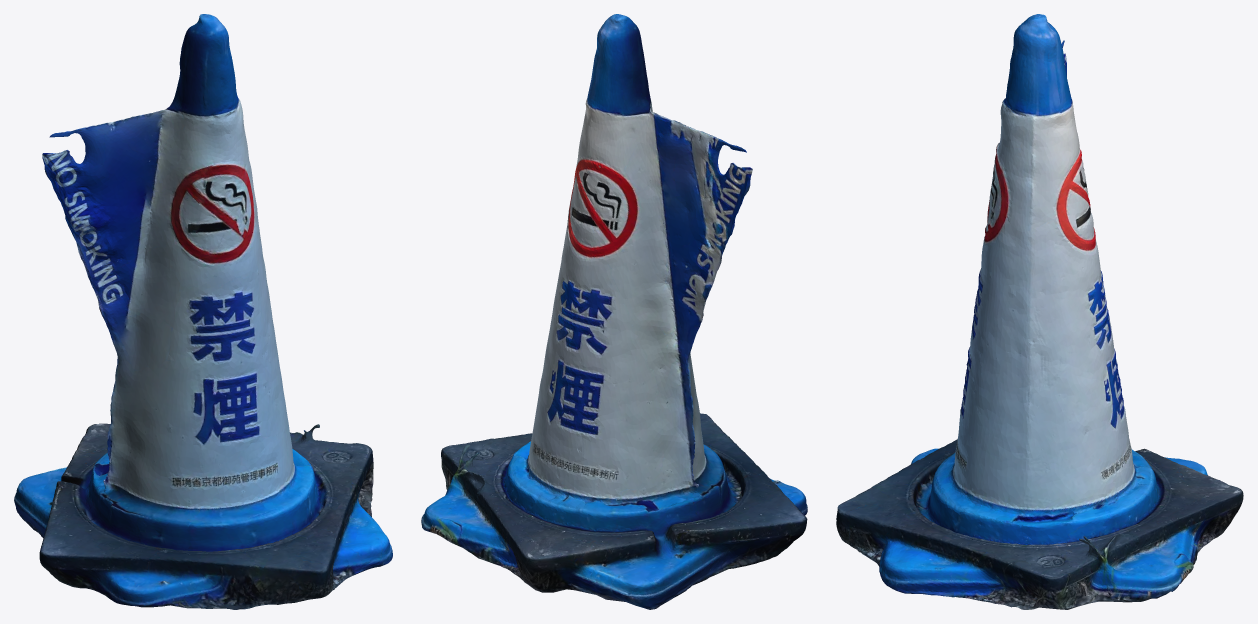
File: cone-interdit-fumer.glb
3 renders of one model, left to right at view 1: azimuth 30°, elevation 25°; view 2: azimuth 150°, elevation 25°; view 3: azimuth 270°, elevation 25°, orthographic. The views are drawn at different scales.
Visible parts, largest first — view 1: Mesh_0; view 2: Mesh_0; view 3: Mesh_0.
Boxes of the visible parts, box(x1,y1,x2,y2) form: Mesh_0: box(14, 14, 392, 609); Mesh_0: box(421, 14, 807, 609); Mesh_0: box(836, 14, 1243, 609).
Bounding box in the file's own units: 0.5187 × 0.7439 × 0.5201.
1 material, 1 textured.
